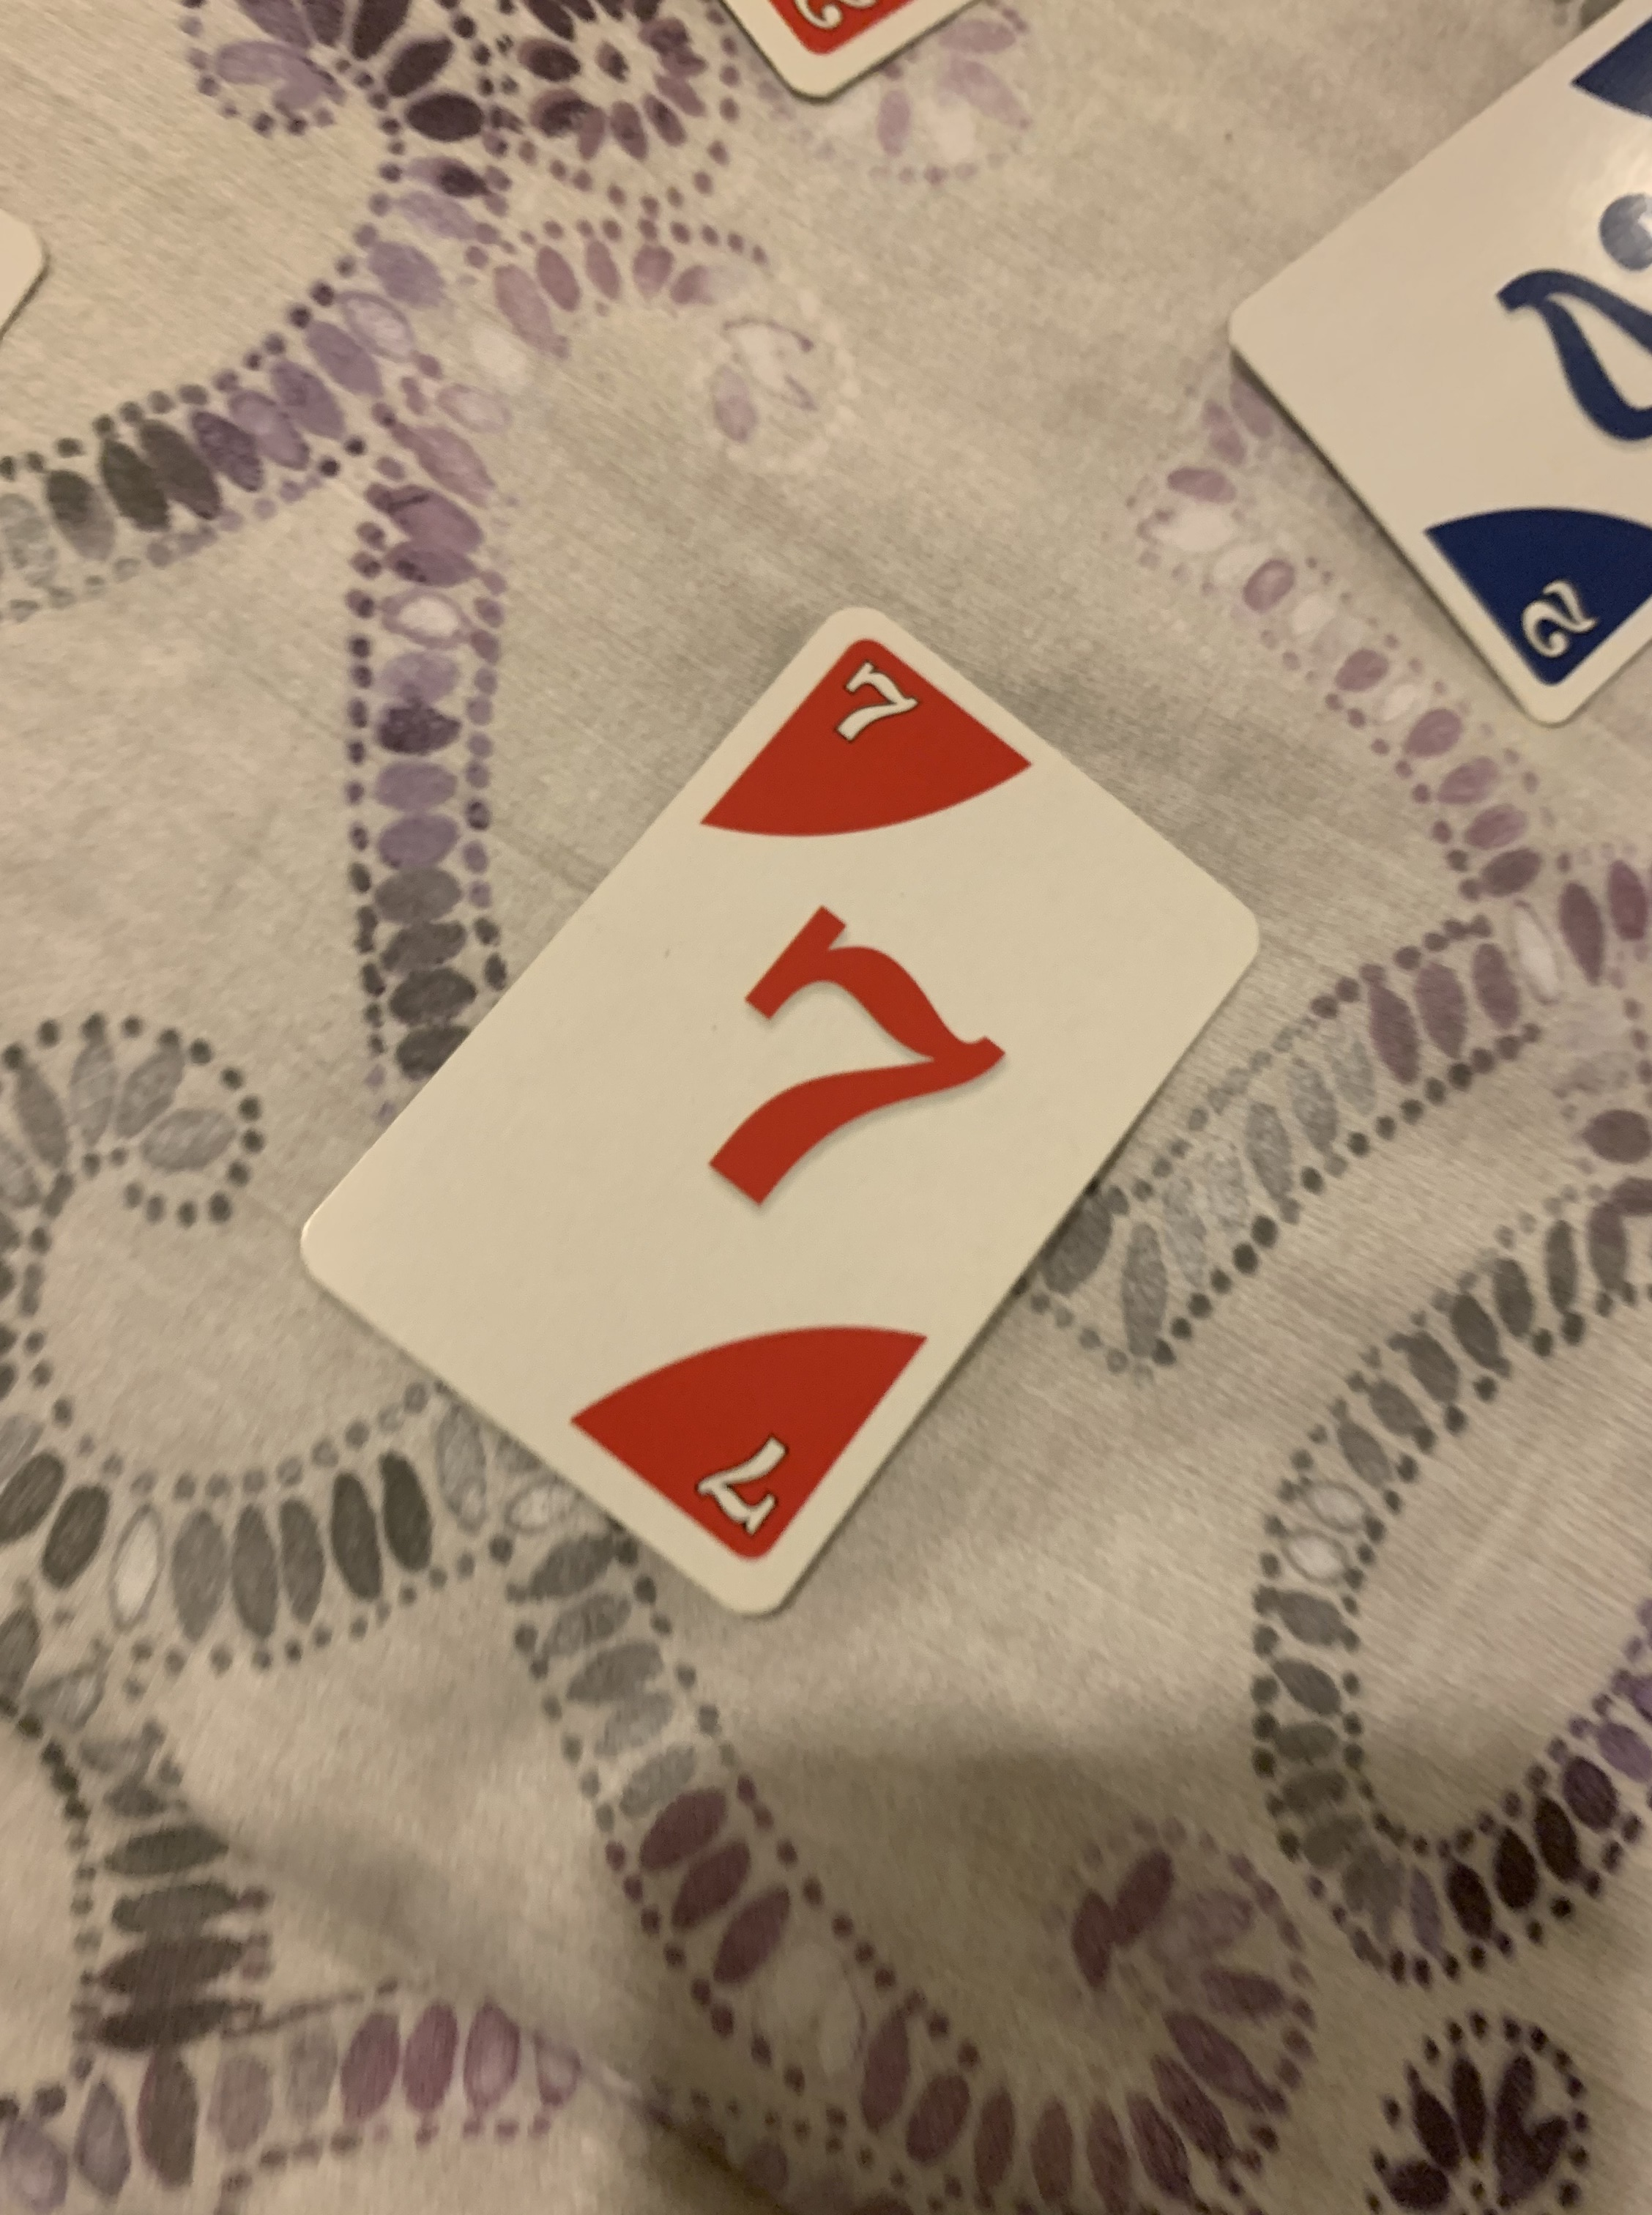seven: (286, 599, 1272, 1621)
two: (1227, 0, 1645, 746)
